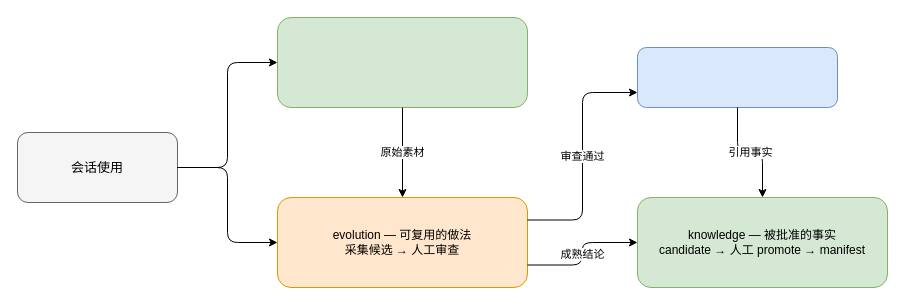
This 905x305 diagram has some shape labels left out. The shapes that lost their labels are listed below. From the top down, each one's centre as x and y in pixels, then its label:
the point at 402,62: memory — 发生过的上下文 自动 capture → recall → takeover
the point at 737,77: skill 组件
